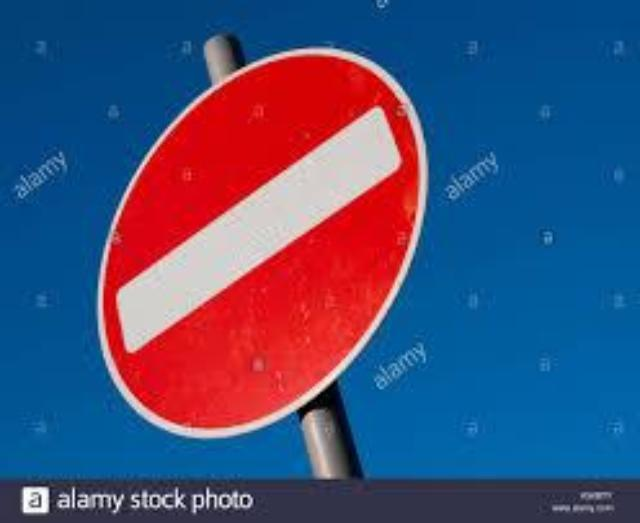B2: (91, 41, 431, 441)
